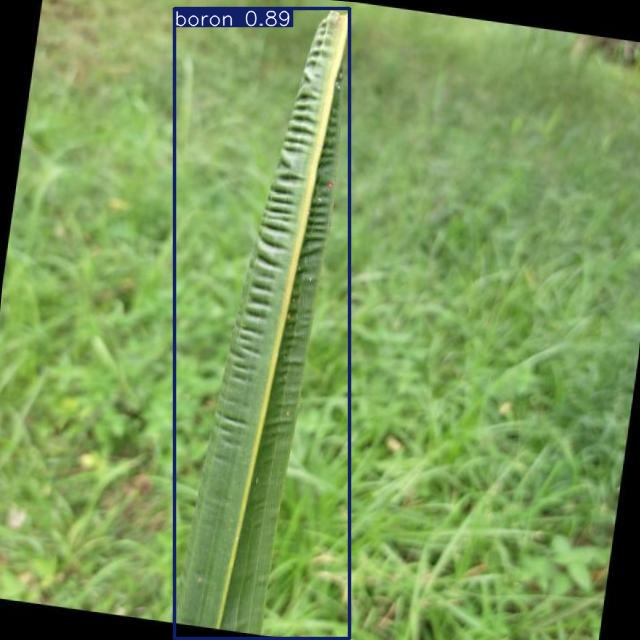nitrogen: (174, 8, 349, 638)
